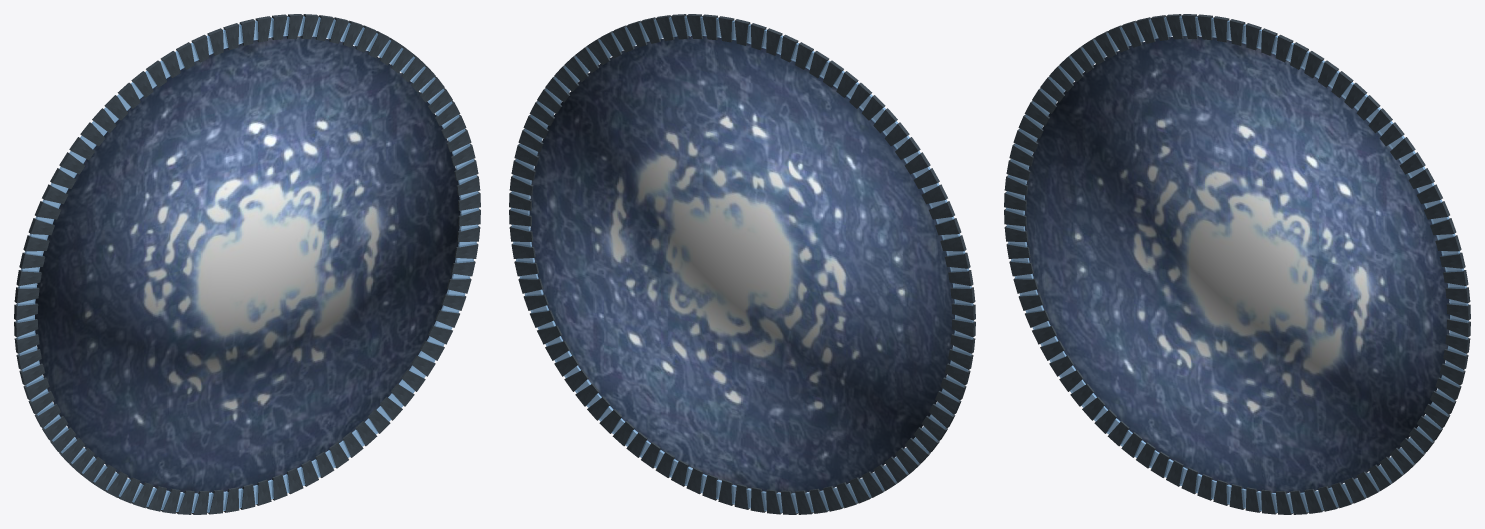
The model's file is supergate.FBX.
3 views of the same model, side by side, from view 1: azimuth 30°, elevation 25°; view 2: azimuth 150°, elevation 25°; view 3: azimuth 330°, elevation 25° (orthographic).
Visible parts, largest first — view 1: gate-wormhole-thingy, Tube001, Tube091; view 2: gate-wormhole-thingy, Tube001, Tube091; view 3: gate-wormhole-thingy, Tube001, Tube091.
Boxes of the visible parts, left/top/right/bottom form: gate-wormhole-thingy: left=35, top=36, right=460, bottom=493; Tube001: left=14, top=14, right=480, bottom=514; Tube091: left=16, top=16, right=478, bottom=512; gate-wormhole-thingy: left=529, top=36, right=954, bottom=493; Tube001: left=509, top=14, right=975, bottom=514; Tube091: left=511, top=16, right=973, bottom=512; gate-wormhole-thingy: left=1025, top=36, right=1449, bottom=492; Tube001: left=1004, top=14, right=1470, bottom=514; Tube091: left=1006, top=16, right=1468, bottom=512.
Size of the model in its own units: 1609 by 1608 by 14.
